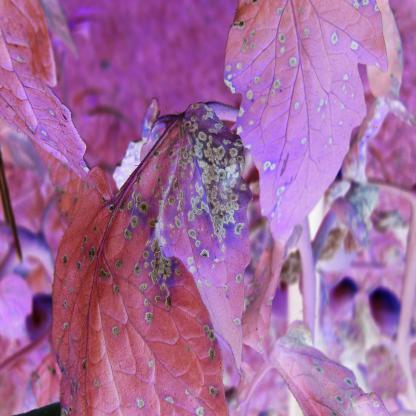Tomato Septoria leaf spot: (53, 100, 245, 416), (216, 0, 386, 252)
